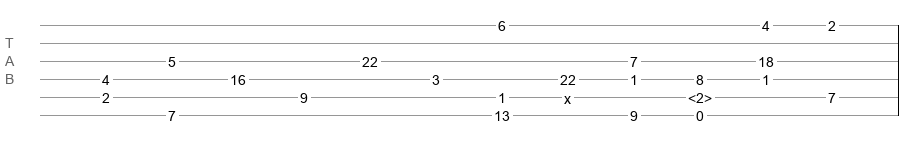0: (696, 108, 704, 118)
1: (498, 90, 506, 100), (630, 72, 638, 82), (762, 72, 770, 82)
13: (494, 108, 510, 118)
16: (230, 72, 246, 82)
18: (758, 54, 774, 64)
2: (102, 90, 110, 100), (828, 18, 836, 28)
22: (362, 54, 378, 64), (560, 72, 576, 82)
3: (432, 72, 440, 82)
4: (102, 72, 110, 82), (762, 18, 770, 28)
5: (168, 54, 176, 64)
6: (498, 18, 506, 28)
7: (168, 108, 176, 118), (630, 54, 638, 64), (828, 90, 836, 100)
8: (696, 72, 704, 82)
9: (300, 90, 308, 100), (630, 108, 638, 118)
harmonic: (688, 90, 712, 100)
x: (564, 91, 571, 99)
